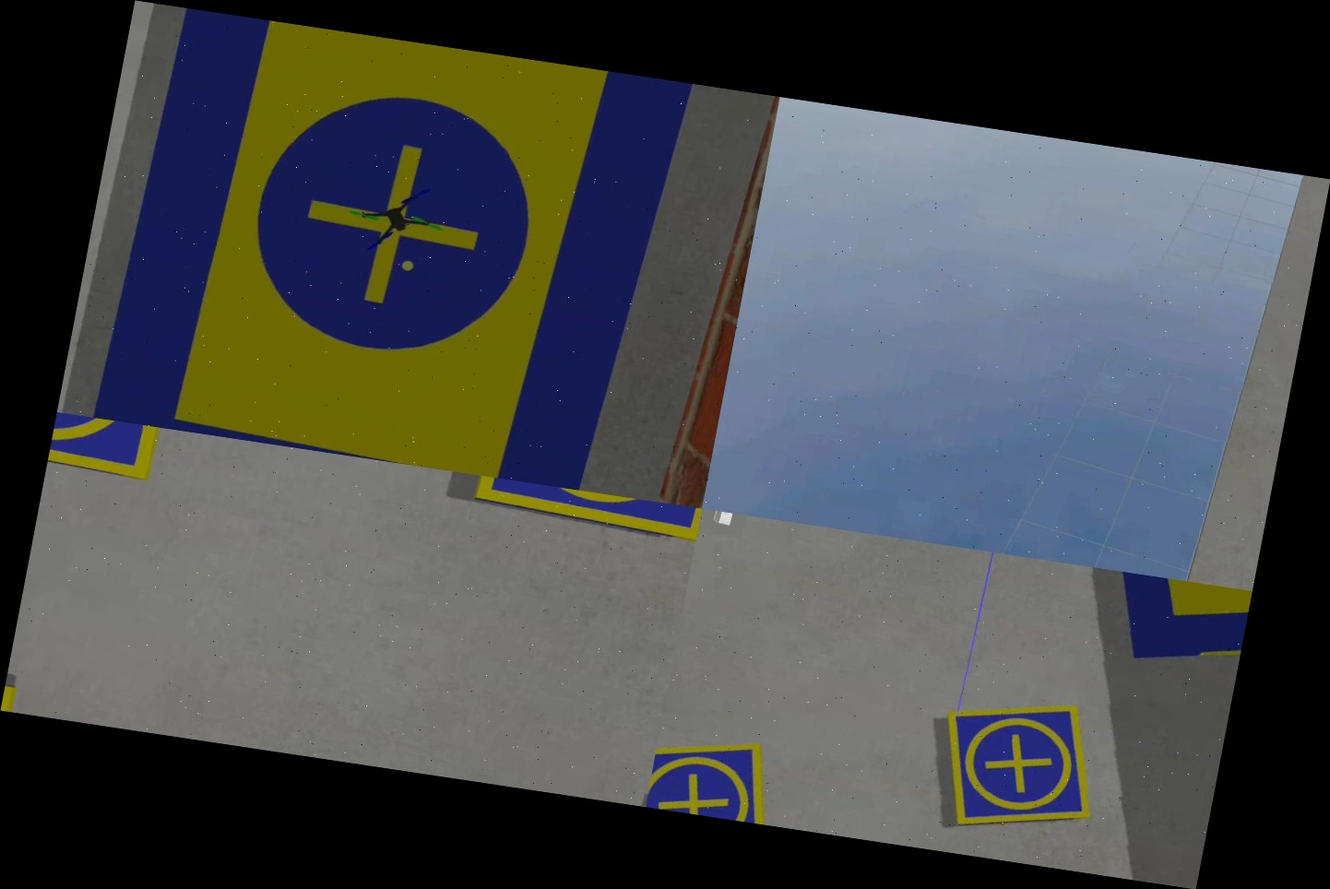large_base: (65, 2, 706, 498), (1085, 569, 1252, 685)
small_base: (920, 681, 1118, 851), (468, 475, 702, 543), (646, 722, 794, 826)
